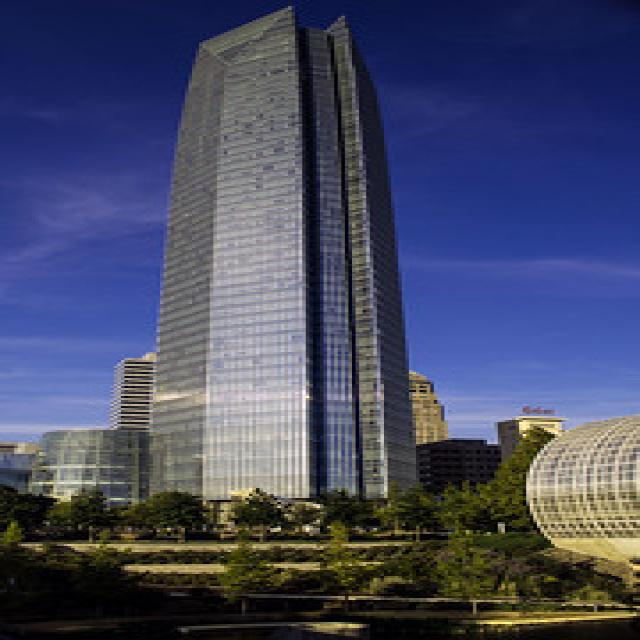building: (142, 4, 430, 514)
